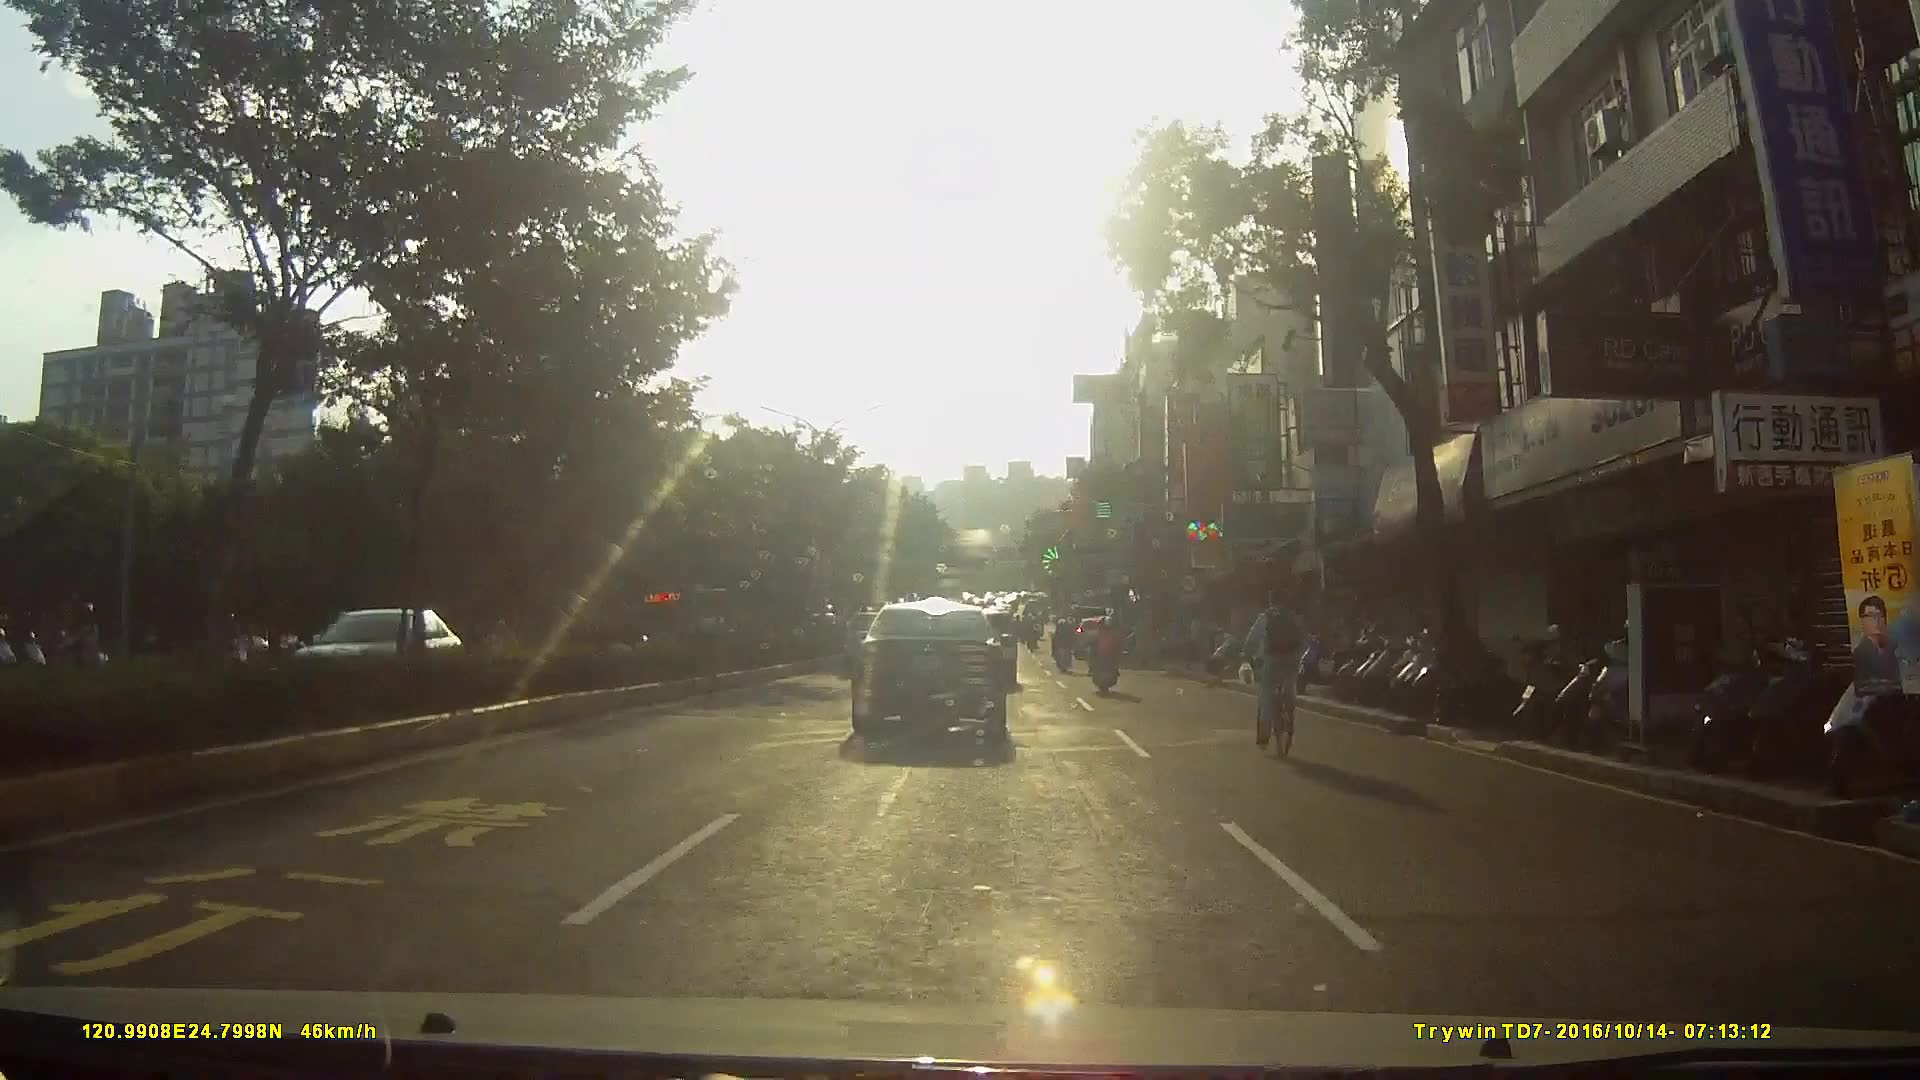rider: (1239, 586, 1315, 760), (44, 599, 115, 700), (1087, 618, 1121, 698), (1049, 618, 1076, 675)
vehicle: (852, 605, 1025, 756), (284, 603, 475, 705)
